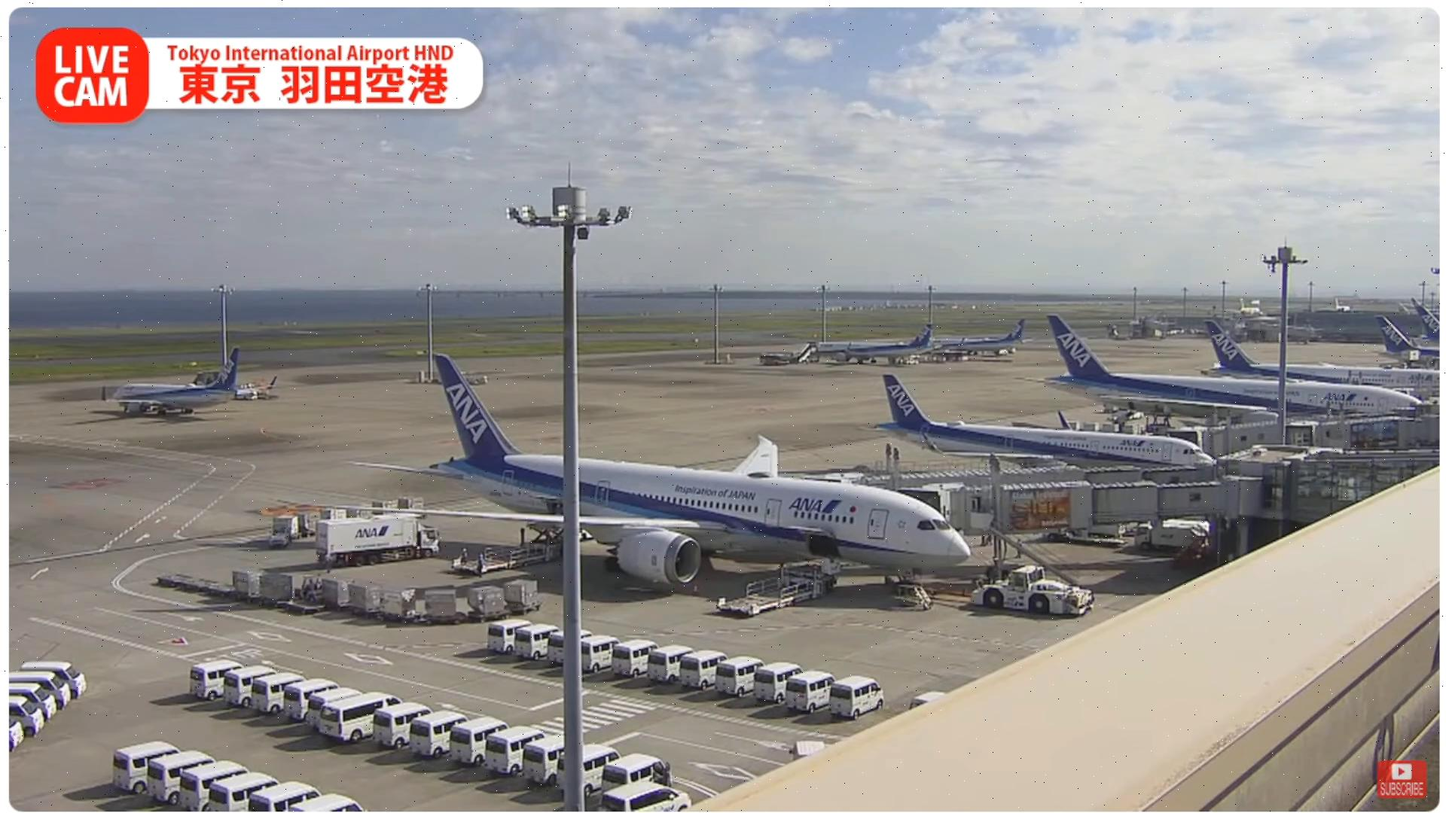APS: (969, 564, 1106, 619)
Aerobridge: (896, 476, 1261, 541), (843, 457, 1217, 496)
Airplane: (330, 354, 973, 599)
Catering: (315, 510, 445, 569)
Dolly: (154, 568, 542, 625), (271, 494, 429, 539)
JCPL: (714, 553, 842, 618), (452, 517, 566, 574)
Tractor: (266, 531, 291, 545)
Window: (1290, 456, 1440, 523)
